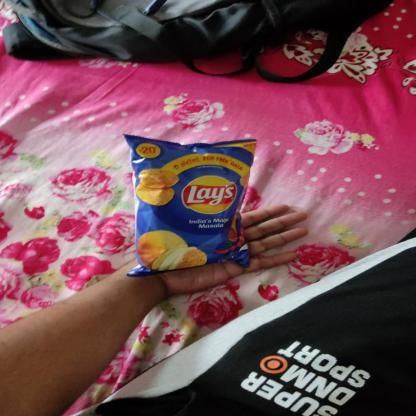indian_magic_masala: (125, 134, 255, 276)
